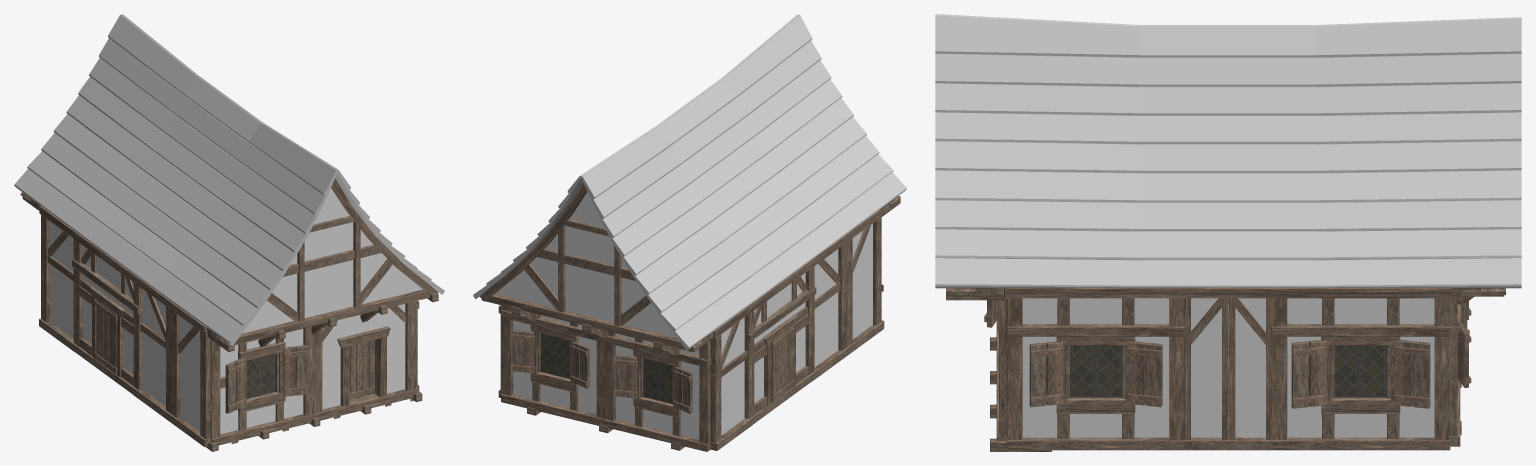
File: House_1Floor_1A1.fbx
3 views of the same model, side by side, from view 1: azimuth 30°, elevation 25°; view 2: azimuth 150°, elevation 25°; view 3: azimuth 270°, elevation 25° (orthographic). The views are drawn at different scales.
Parts seen in each view (by area): view 1: House_1Floor_1A1, Cube.3347, Cube.3350, Plane.601; view 2: House_1Floor_1A1, Cube.3350, Plane.586, Plane.587; view 3: House_1Floor_1A1, Plane.600, Plane.599.
Boxes of the visible parts, x1,y1,x2,y2 form: House_1Floor_1A1: [14, 14, 444, 451]; Cube.3347: [349, 339, 375, 399]; Cube.3350: [94, 298, 117, 374]; Plane.601: [246, 353, 275, 398]; House_1Floor_1A1: [473, 14, 906, 451]; Cube.3350: [771, 327, 794, 403]; Plane.586: [643, 358, 672, 403]; Plane.587: [540, 333, 569, 378]; House_1Floor_1A1: [935, 14, 1521, 451]; Plane.600: [1334, 345, 1386, 397]; Plane.599: [1070, 345, 1121, 397].
Bounding box in the file's own units: 910 × 1065 × 1525.
